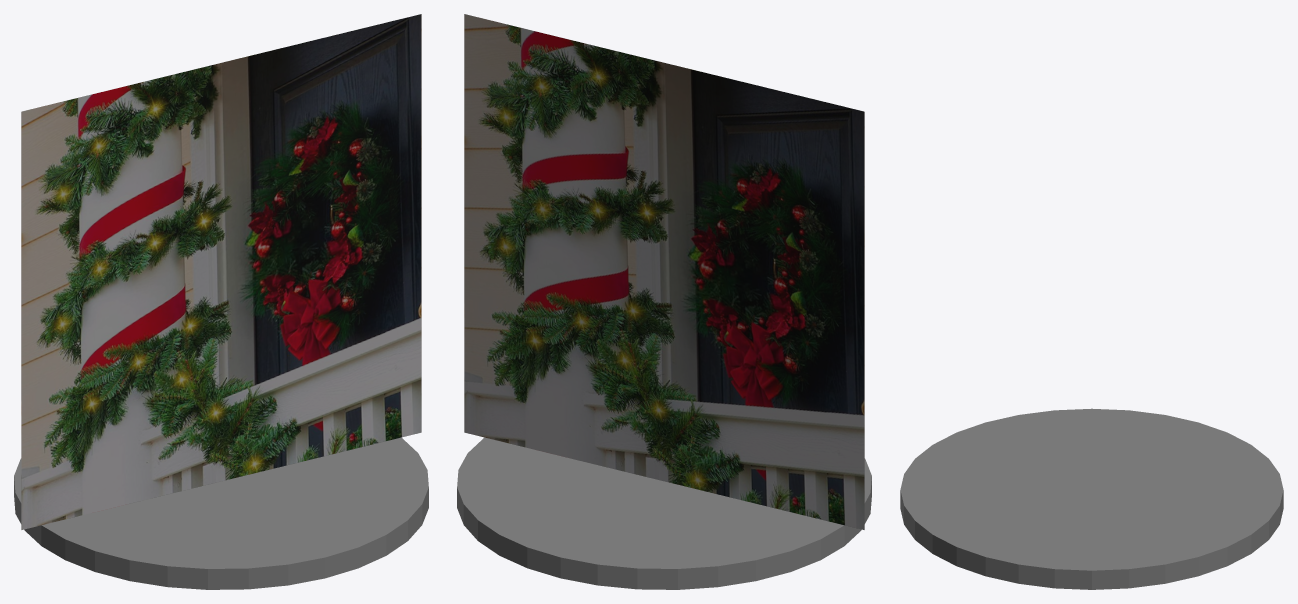
The model's file is B0BPFGTJSW.glb.
The picture shows the model from 3 angles, left to right: view 1: azimuth 30°, elevation 25°; view 2: azimuth 150°, elevation 25°; view 3: azimuth 270°, elevation 25°; orthographic projection. The views are drawn at different scales.
Parts seen in each view (by area): view 1: photo, base; view 2: photo, base; view 3: base.
Boxes of the visible parts, x1=… form: photo: x1=21, y1=14, x2=421, y2=529; base: x1=14, y1=437, x2=428, y2=589; photo: x1=464, y1=14, x2=864, y2=529; base: x1=457, y1=437, x2=871, y2=589; base: x1=900, y1=408, x2=1283, y2=589.
Size of the model in its own units: 0.4 by 0.42 by 0.36.
1 material, 1 textured.
